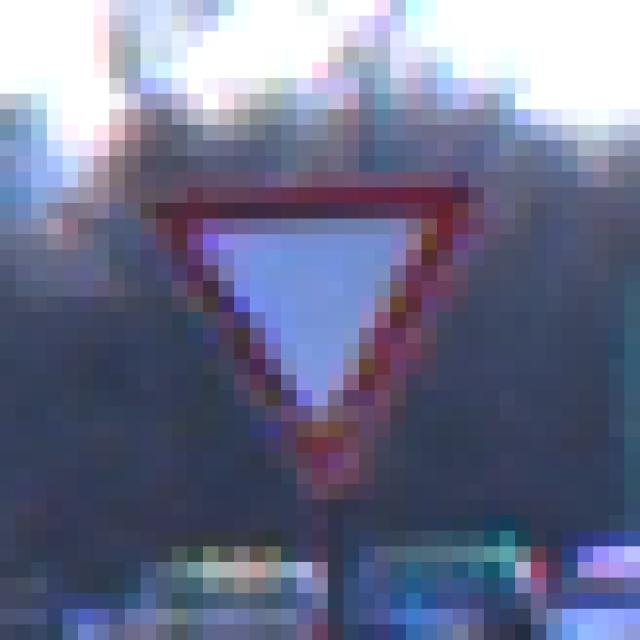Give Way: (79, 79, 563, 563)
